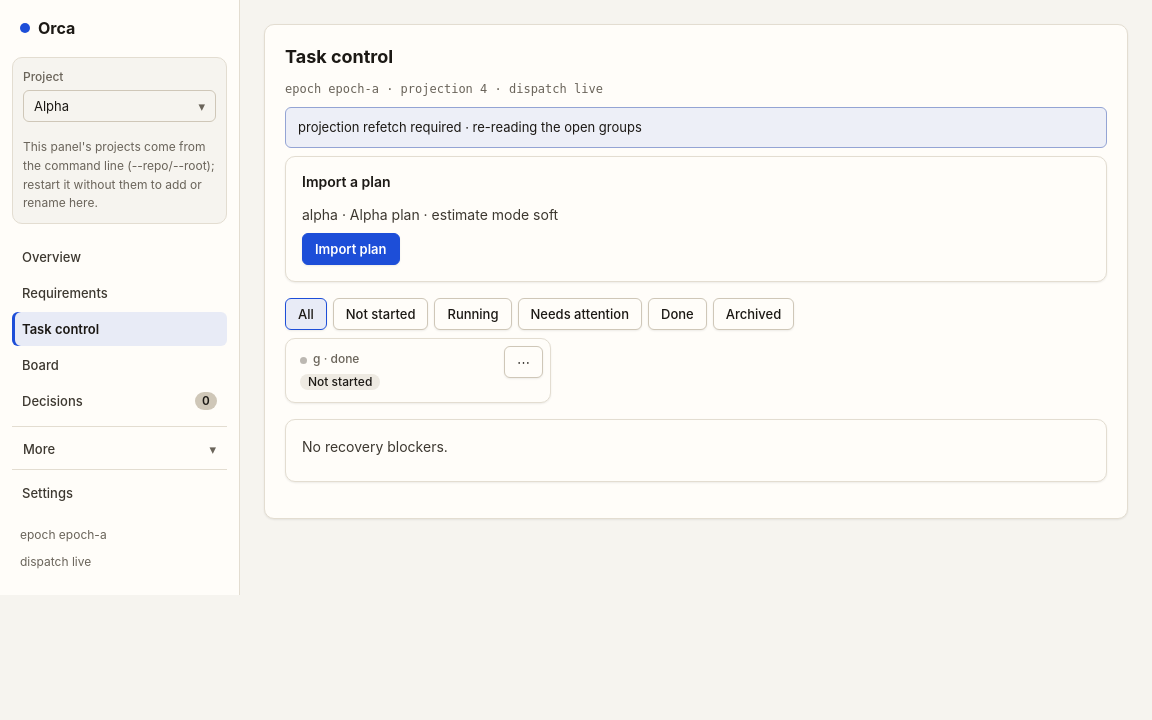
Test: real App completed missing results retain actual success and independent source unsupported
This screenshot has width=1152, height=720.
Click the button "g · done Not started" at point(340, 382), box [285,338,551,403]
Wait 1 ms
(page scrolled)
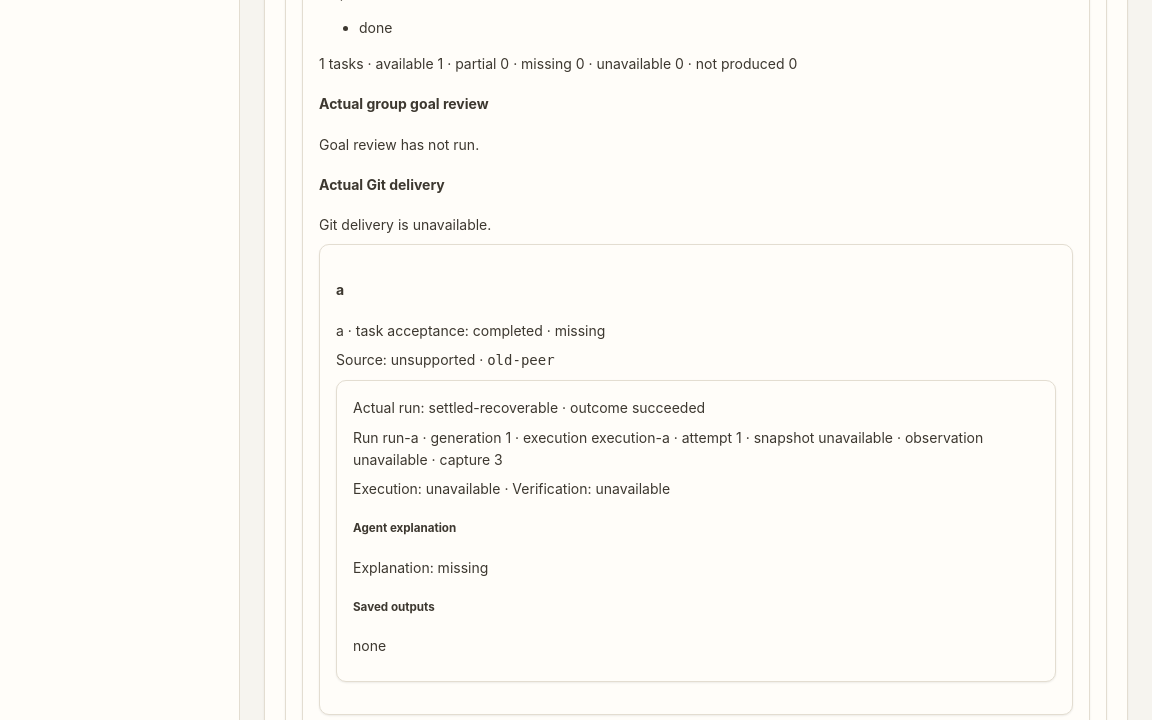
Result: the element named "Current result · run-a" shows "succeeded" at [353,399,705,416]
Result: the element named "Current result · run-a" shows "missing" at [353,559,488,576]
Result: the text "Source: unsupported · old-peer" is shown at [336,352,555,368]
